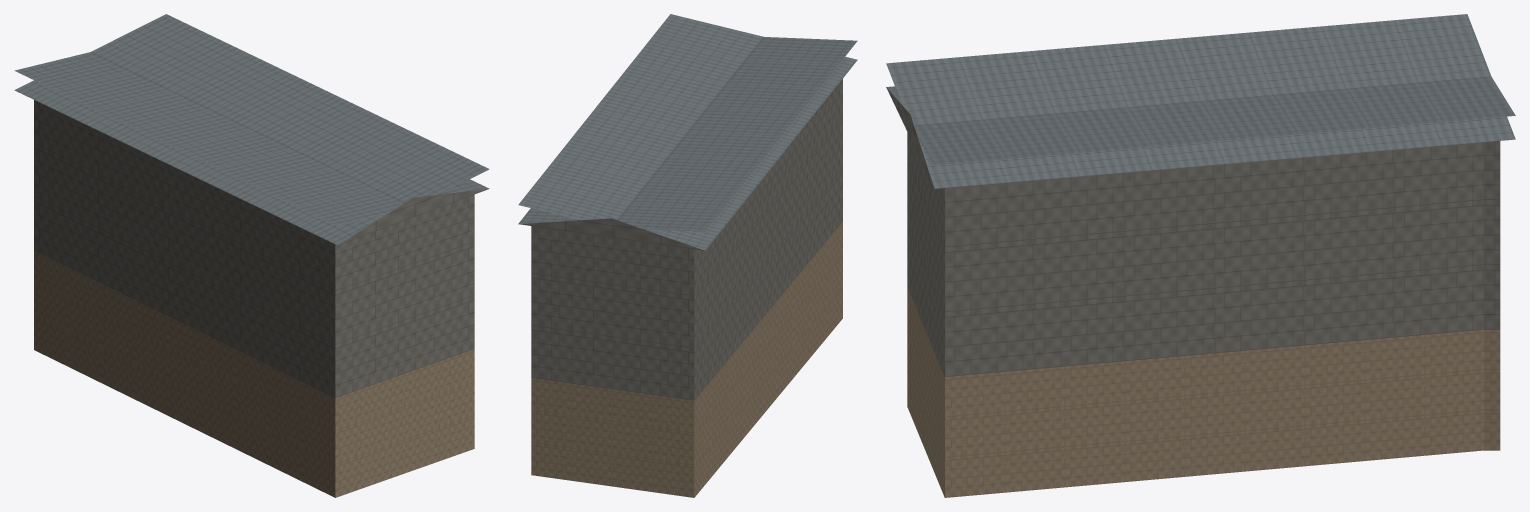
File: bld_c32_45_241.gltf
3 renders of one model, left to right at view 1: azimuth 30°, elevation 25°; view 2: azimuth 150°, elevation 25°; view 3: azimuth 270°, elevation 25°, orthographic. The views are drawn at different scales.
Visible parts, largest first — view 1: bld_c32_45_241; view 2: bld_c32_45_241; view 3: bld_c32_45_241.
Part boxes in pixels (x1=…): bld_c32_45_241: x1=14, y1=14, x2=489, y2=497; bld_c32_45_241: x1=518, y1=14, x2=857, y2=497; bld_c32_45_241: x1=886, y1=14, x2=1515, y2=497.
Size of the model in its own units: 13.67 by 14.3 by 24.06.
Materials: 4 (4 with a texture image).
